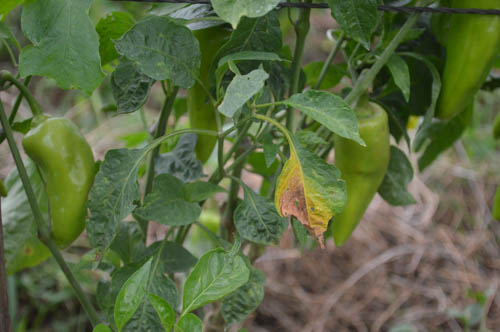ChiliPepper: (26, 117, 95, 242), (335, 112, 388, 247), (439, 15, 497, 127), (186, 32, 232, 162)
